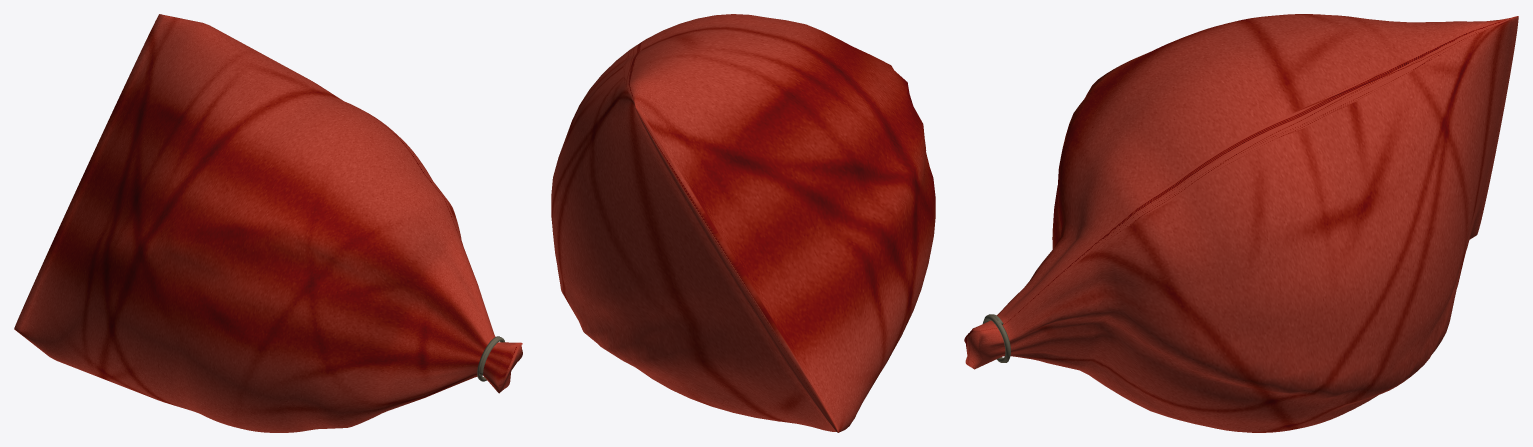
Rendered from peach_00_007.glb.
The picture shows the model from 3 angles, left to right: view 1: azimuth 30°, elevation 25°; view 2: azimuth 150°, elevation 25°; view 3: azimuth 270°, elevation 25°; orthographic projection. The views are drawn at different scales.
Visible parts, largest first — view 1: export_Tree00/shoot1_4_1/bag; view 2: export_Tree00/shoot1_4_1/bag; view 3: export_Tree00/shoot1_4_1/bag.
Part boxes in pixels (x1=…): export_Tree00/shoot1_4_1/bag: x1=14, y1=14, x2=522, y2=432; export_Tree00/shoot1_4_1/bag: x1=551, y1=14, x2=935, y2=432; export_Tree00/shoot1_4_1/bag: x1=964, y1=14, x2=1518, y2=432.
Bounding box in the file's own units: 0.0978 × 0.0946 × 0.1208.
4 materials, 1 textured.
